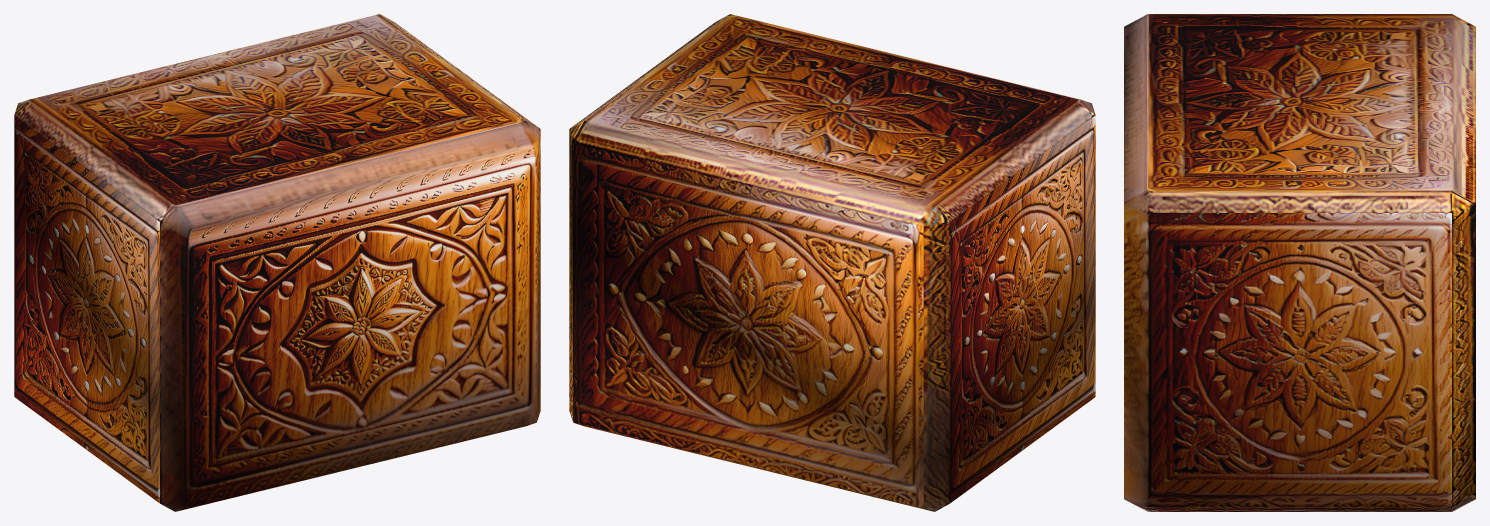
The model's file is spiceBox.glb.
3 views of the same model, side by side, from view 1: azimuth 30°, elevation 25°; view 2: azimuth 150°, elevation 25°; view 3: azimuth 270°, elevation 25° (orthographic). The views are drawn at different scales.
Size of the model in its own units: 2.32 by 1.78 by 1.78.
Materials: 1 (1 with a texture image).
